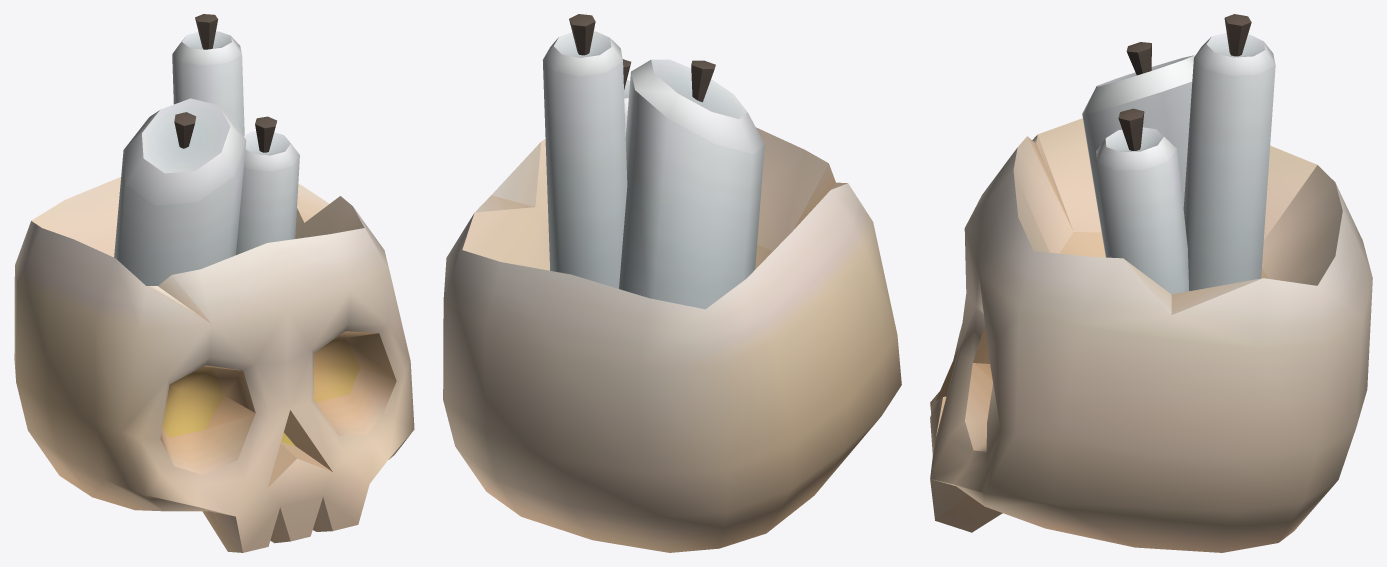
File: kay-caveira-vela.gltf
3 views of the same model, side by side, from view 1: azimuth 30°, elevation 25°; view 2: azimuth 150°, elevation 25°; view 3: azimuth 270°, elevation 25° (orthographic). The views are drawn at different scales.
Visible parts, largest first — view 1: skull_candle; view 2: skull_candle; view 3: skull_candle.
Boxes of the visible parts, <box> form: skull_candle: <box>14,14,414,552</box>; skull_candle: <box>443,14,901,552</box>; skull_candle: <box>930,14,1372,552</box>.
Size of the model in its own units: 0.4588 by 0.5937 by 0.4681.
1 material, 1 textured.
